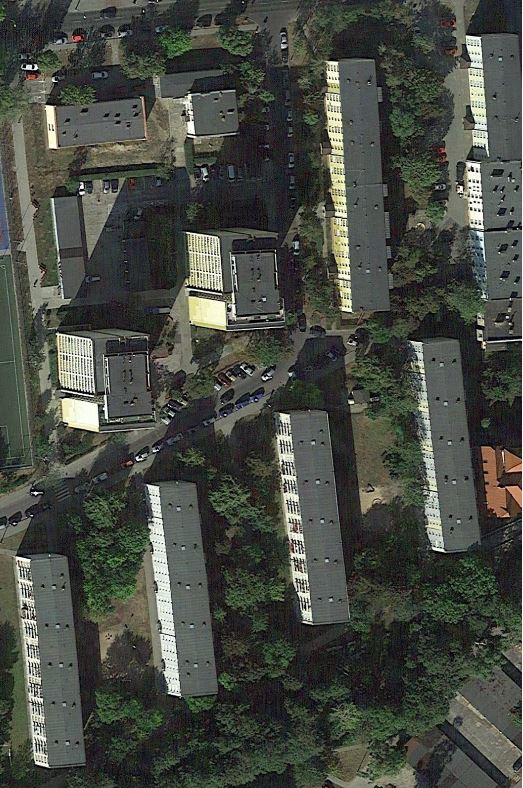block of flats: (452, 14, 523, 347), (316, 46, 400, 318), (141, 472, 235, 706), (266, 401, 360, 626), (12, 539, 95, 773), (405, 326, 487, 562), (177, 222, 297, 335), (54, 322, 166, 432), (39, 91, 154, 154), (180, 79, 248, 144)
garage: (47, 188, 93, 306)
